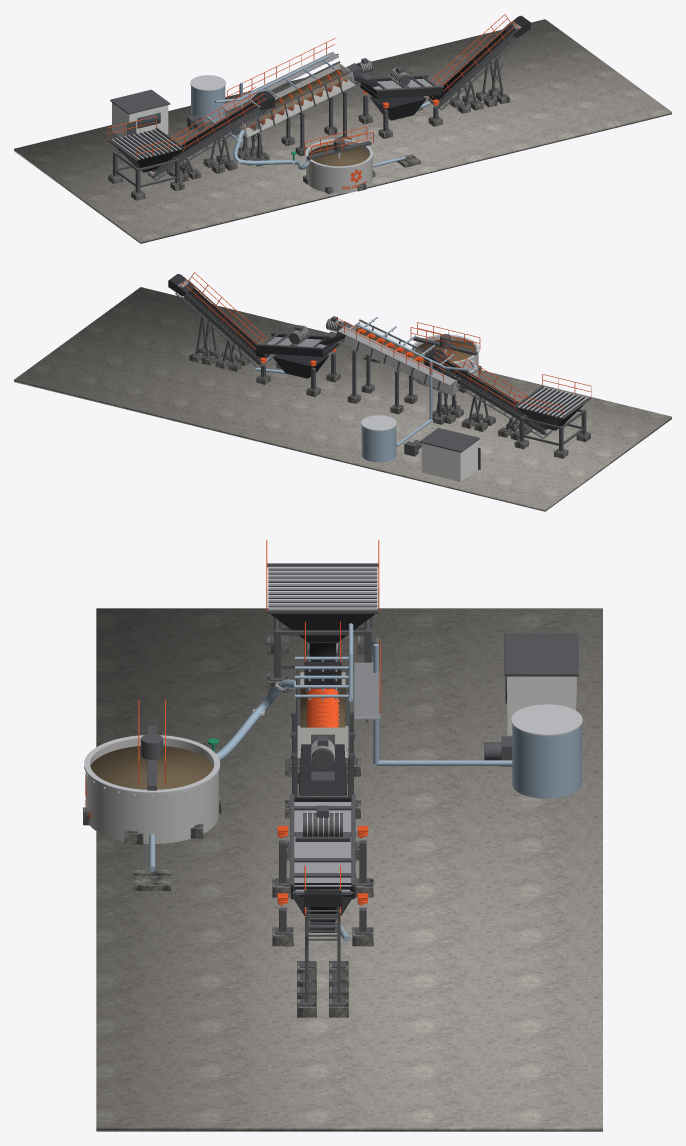
Rendered from om-group-sand-washing.glb.
3 views of the same model, one above another, from view 1: azimuth 30°, elevation 25°; view 2: azimuth 150°, elevation 25°; view 3: azimuth 270°, elevation 25° (orthographic). The views are drawn at different scales.
Visible parts, largest first — view 1: Ground, SteelWork, CharcoalWork, TroughSteel, Footings, PipeBlue, OrangeWork, Fittings, BeltRubber, TroughGlass, Cabin, Decks (+4 smaller); view 2: Ground, SteelWork, CharcoalWork, Footings, OrangeWork, PipeBlue, Cabin, TroughSteel, Fittings, BeltRubber, Decks, Motors (+1 smaller); view 3: Ground, SteelWork, PipeBlue, TroughSteel, Fittings, CharcoalWork, Footings, Decks, TankWater, Motors, Cabin, OrangeWork (+1 smaller).
Boxes of the visible parts, x1,y1,x2,y2 form: Ground: [14, 19, 671, 243]; SteelWork: [108, 22, 523, 194]; CharcoalWork: [111, 15, 530, 172]; TroughSteel: [238, 61, 408, 193]; Footings: [108, 88, 509, 200]; PipeBlue: [191, 55, 431, 169]; OrangeWork: [108, 14, 519, 171]; Fittings: [111, 63, 373, 169]; BeltRubber: [151, 30, 512, 171]; TroughGlass: [245, 72, 354, 135]; Cabin: [112, 102, 168, 137]; Decks: [220, 52, 432, 111]; Ground: [14, 287, 671, 511]; SteelWork: [175, 280, 591, 469]; CharcoalWork: [168, 274, 588, 430]; Footings: [189, 346, 590, 458]; OrangeWork: [180, 272, 591, 429]; PipeBlue: [255, 317, 482, 462]; Cabin: [421, 441, 477, 481]; TroughSteel: [290, 319, 478, 395]; Fittings: [361, 321, 587, 431]; BeltRubber: [186, 288, 547, 429]; Decks: [266, 326, 456, 385]; Motors: [289, 316, 467, 456]; Ground: [96, 608, 602, 1131]; SteelWork: [85, 563, 578, 1005]; PipeBlue: [149, 623, 581, 941]; TroughSteel: [85, 672, 348, 843]; Fittings: [84, 566, 582, 797]; CharcoalWork: [268, 569, 377, 915]; Footings: [83, 635, 378, 1017]; Decks: [294, 662, 380, 894]; TankWater: [90, 746, 213, 789]; Motors: [141, 734, 512, 837]; Cabin: [507, 676, 576, 735]; OrangeWork: [138, 540, 380, 918].
Bounding box in the file's own units: 46 × 7.38 × 19.49.
Materials: 19 (3 with a texture image).
